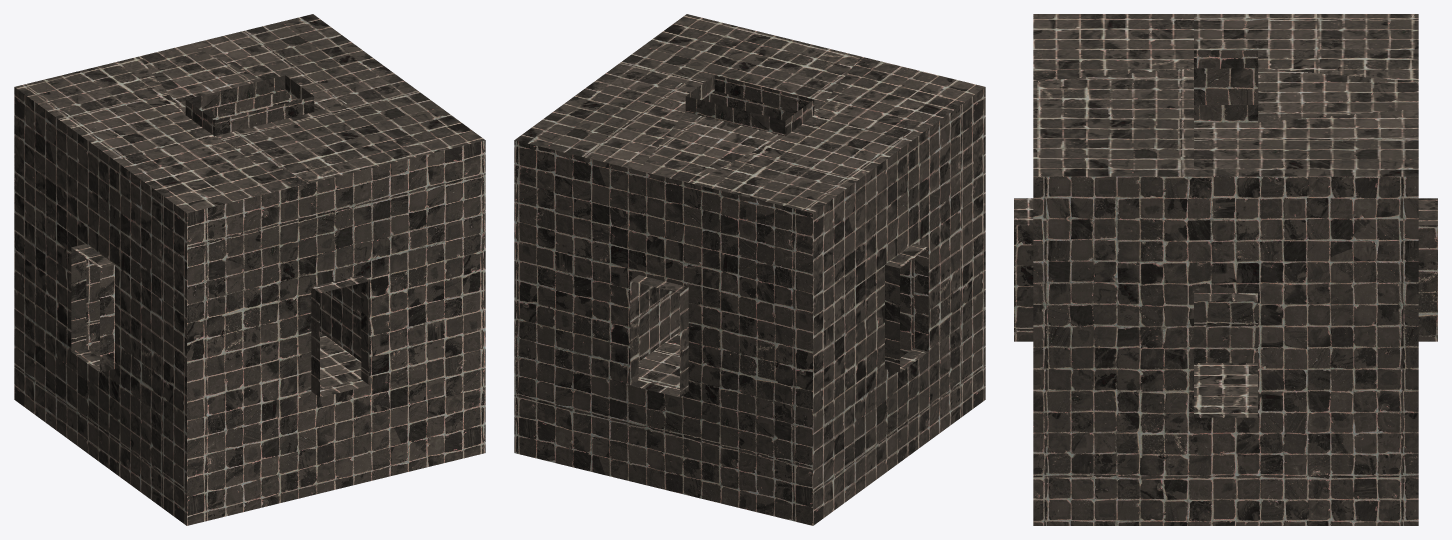
Rendered from TestRoom.fbx.
The picture shows the model from 3 angles, left to right: view 1: azimuth 30°, elevation 25°; view 2: azimuth 150°, elevation 25°; view 3: azimuth 270°, elevation 25°; orthographic projection. The views are drawn at different scales.
Visible parts, largest first — view 1: Cube; view 2: Cube; view 3: Cube.
Part boxes in pixels (box(x1,y1,x2,y2)): Cube: box(14, 14, 485, 525); Cube: box(514, 14, 985, 525); Cube: box(1014, 14, 1437, 525).
Bounding box in the file's own units: 4400 × 4400 × 4400.
